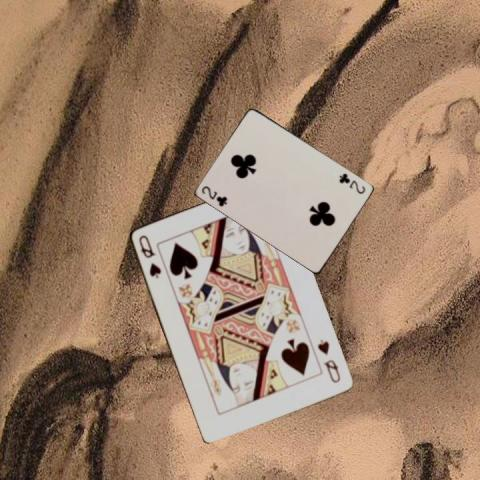2c: (336, 170, 367, 195), (198, 183, 228, 208)
Qs: (314, 336, 342, 385), (135, 232, 163, 280)
